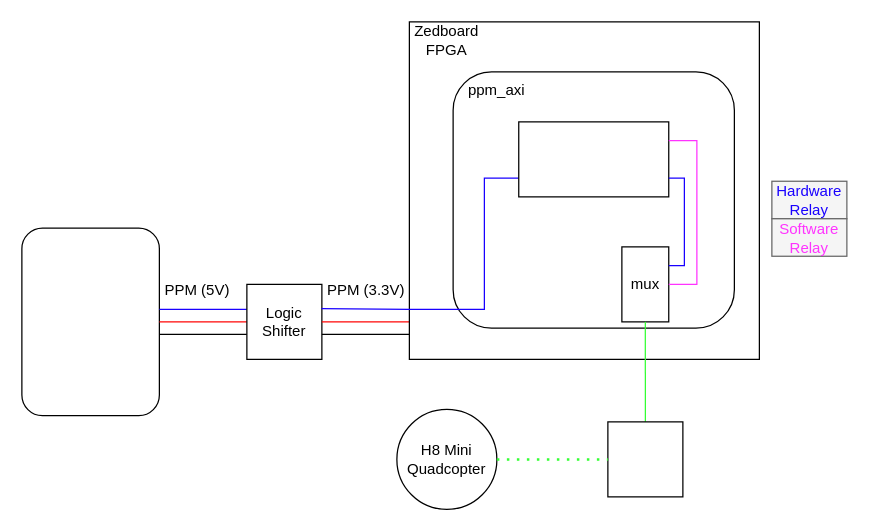
Image size: 869x531. Some labels were removed from this diagram. Here are the shapes that lost their labels. From the top down, the centre of each, then its label:
At pixel 593 159: "PPM Detect & Generate".
At pixel 90 321: "HA-T6A Controller".
At pixel 645 459: "Arduino Nano".
